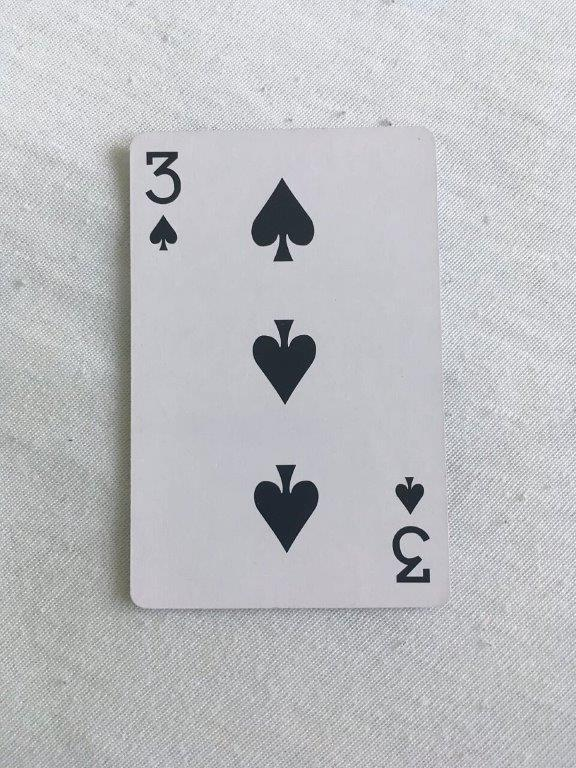3S: (123, 123, 455, 616)
